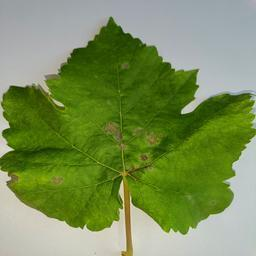Powdery-Mildew: (135, 129, 163, 168), (178, 187, 217, 208), (105, 115, 129, 145), (226, 109, 251, 134), (116, 49, 141, 71), (50, 174, 71, 191)
